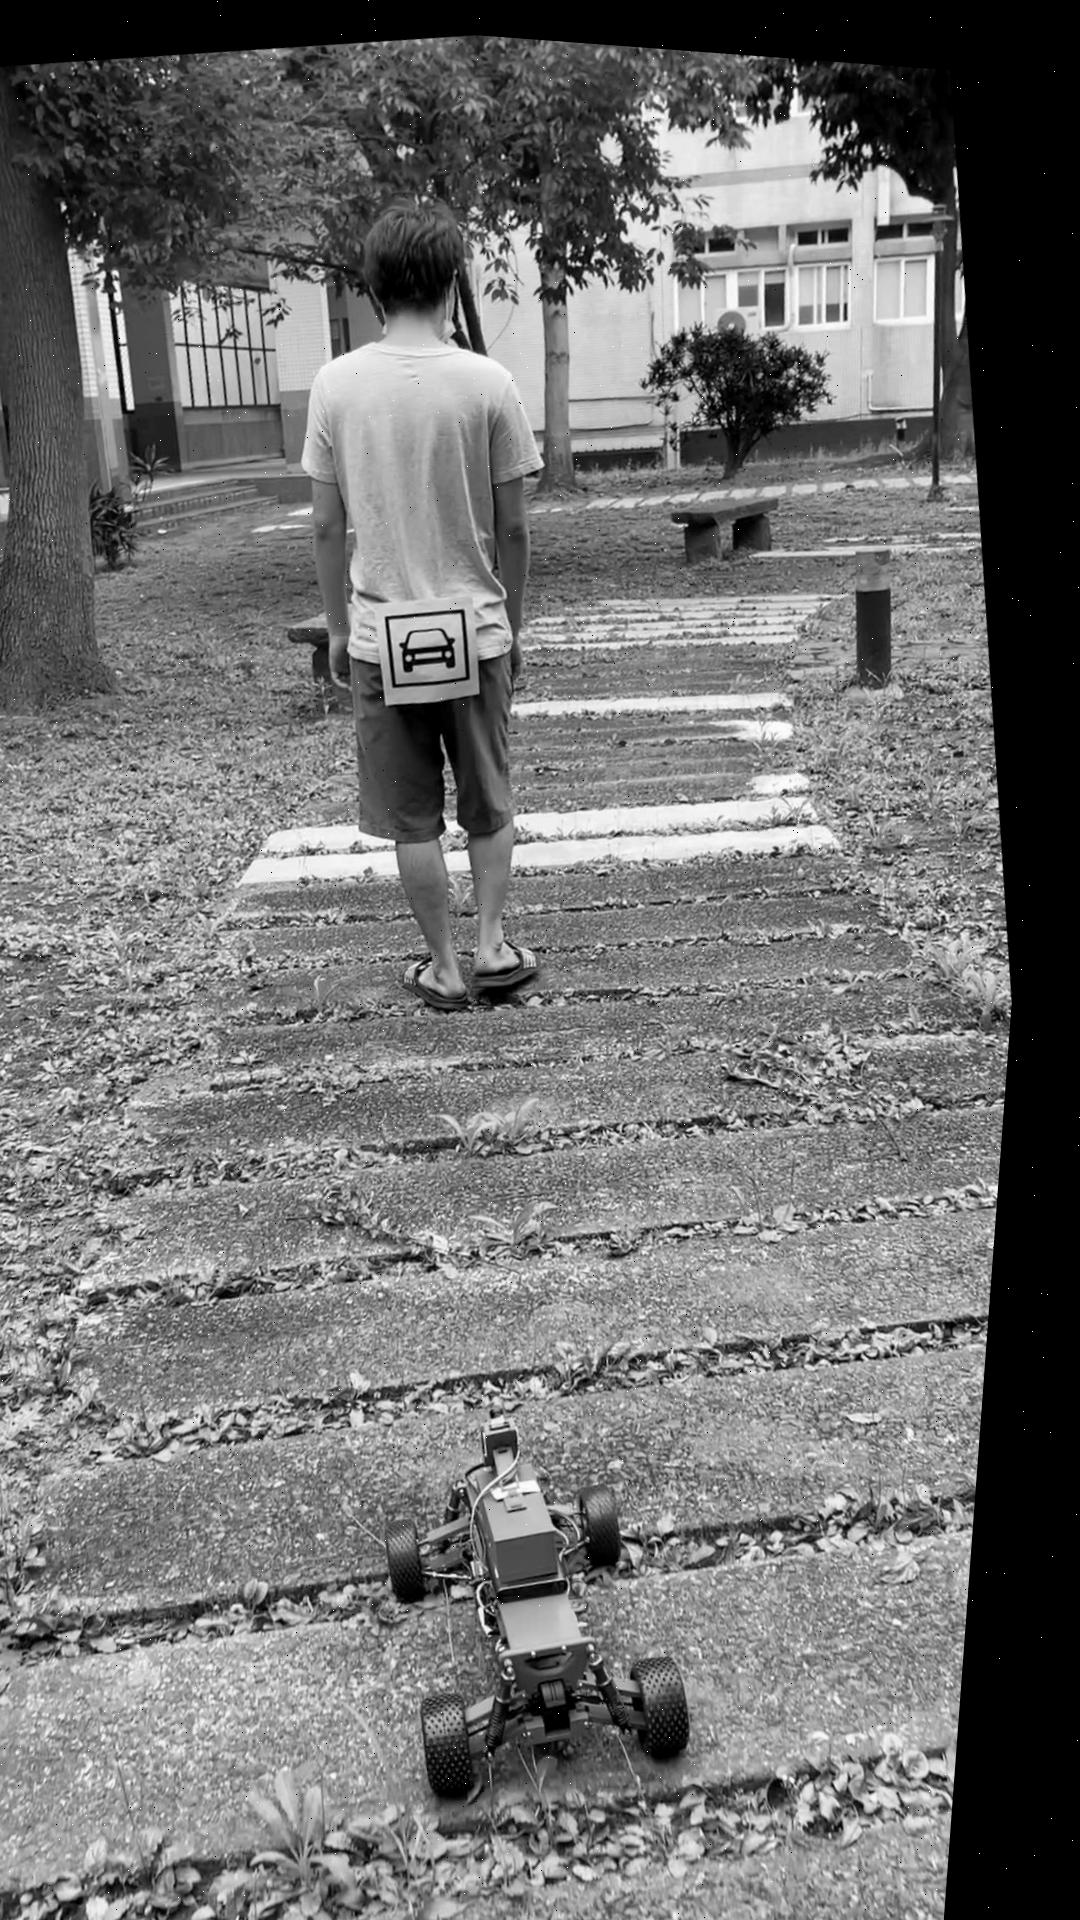car_img: (389, 595, 485, 686)
